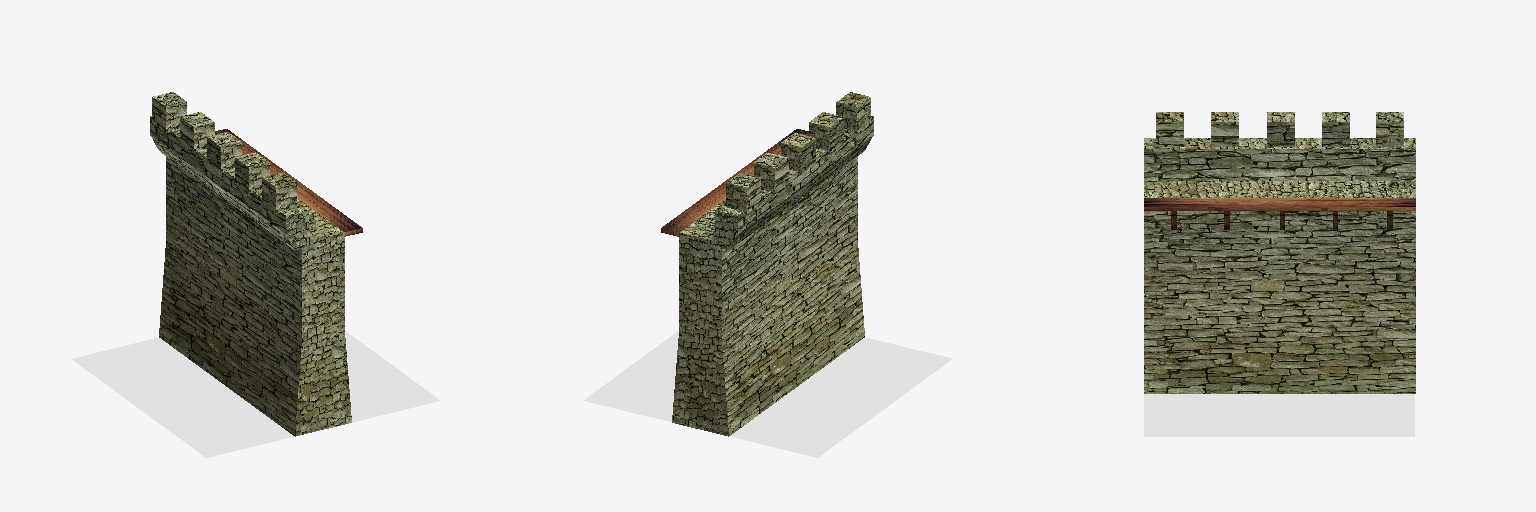
3 views of the same model, side by side, from view 1: azimuth 30°, elevation 25°; view 2: azimuth 150°, elevation 25°; view 3: azimuth 270°, elevation 25° (orthographic).
Parts seen in each view (by area): view 1: limestone, grass, floor; view 2: limestone, grass, floor; view 3: limestone, grass, floor.
Part boxes in pixels (x1,y1,x2,y2): limestone: (150,92,351,436); grass: (72,331,440,457); floor: (215,129,362,236); limestone: (672,92,873,436); grass: (583,331,951,457); floor: (661,129,808,236); limestone: (1144,112,1415,393); grass: (1144,394,1414,436); floor: (1144,198,1415,229).
Bounding box in the file's own units: 76 × 76.58 × 76.25.
Materials: 3 (2 with a texture image).